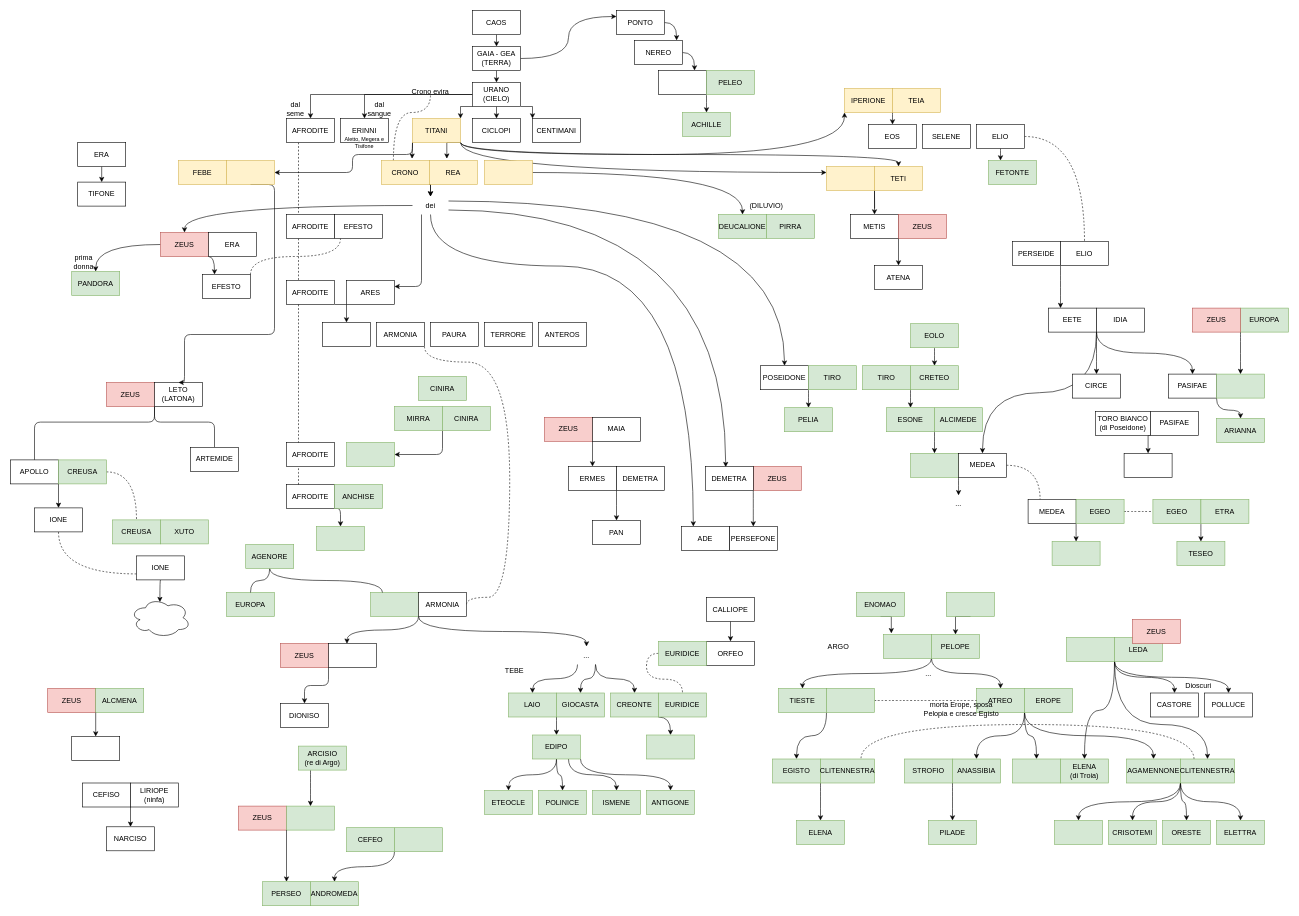
Some shapes in this 1299 by 916 pixel diagram are drawn without their labels. Here are the shapes that lost their labels. From the top down, the box of each, then its label:
(658, 70, 706, 94): TETI (NEREIDE)
(226, 160, 274, 184): CEO
(484, 160, 532, 184): PROMETEO
(826, 166, 874, 190): OCEANO
(322, 322, 370, 346): EROS
(1216, 374, 1264, 398): MINOSSE
(346, 442, 394, 466): ADONE
(910, 453, 958, 477): GIASONE
(1124, 453, 1172, 477): MINOTAURO
(316, 526, 364, 550): ENEA
(1052, 541, 1100, 566): MEDO
(130, 597, 190, 638): STIRPE IONICA
(370, 592, 418, 616): CADMO
(946, 592, 994, 616): TANTALO
(328, 643, 376, 668): SEMELE
(883, 634, 932, 658): IPPODAMIA
(1066, 637, 1114, 662): TINDARO
(826, 688, 874, 712): PELOPIA
(71, 736, 120, 760): ERACLE
(646, 734, 694, 759): EMONE
(1012, 758, 1060, 783): MENELAO
(286, 806, 334, 830): DANAE
(1054, 820, 1102, 844): IFIGENIA
(394, 827, 442, 852): CASSIOPEA
